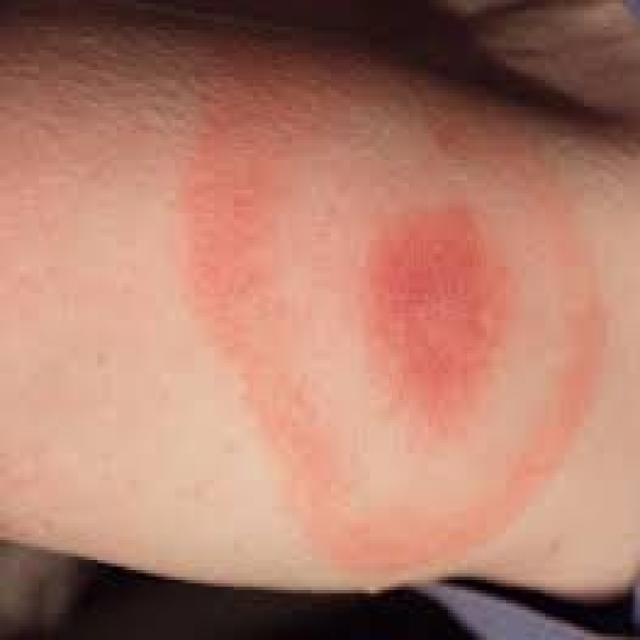kene: (353, 199, 514, 496)
